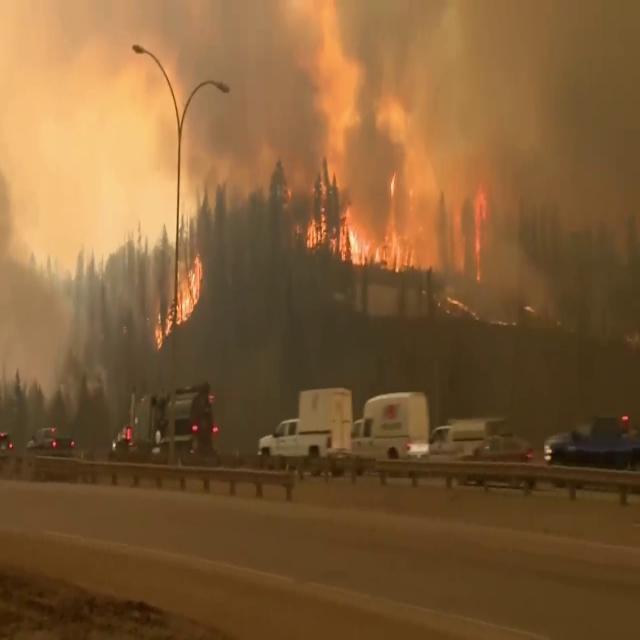Fire: (333, 170, 405, 272), (156, 243, 206, 345)
Smoke: (125, 0, 489, 235), (477, 1, 639, 377)
